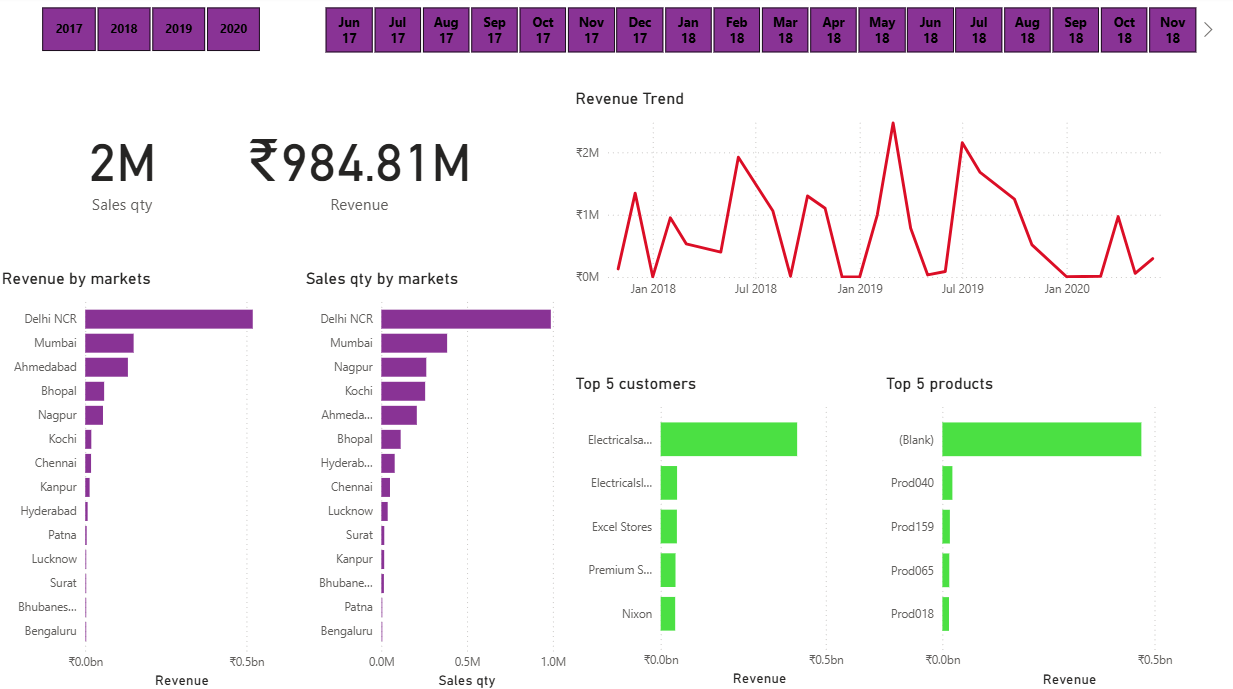

Layout of this report page (visuals, bound fields, positions):
{"tool":"powerbi","page":{"name":"Key Insights","canvas":[1280,720],"ordinal":0},"visuals":[{"type":"slicer","fields":{"Values":["sales date.year"]},"box":[21.1,5.6,274.4,59.1],"z":0},{"type":"card","fields":{"Values":["measure_table.Revenue"]},"box":[244.9,111.2,258.9,132.3],"z":1000},{"type":"clusteredBarChart","title":"Revenue by markets","fields":{"Category":["sales markets.markets_name"],"Y":["measure_table.Revenue"]},"box":[0,282.4,313.8,437.7],"z":2000},{"type":"card","fields":{"Values":["measure_table.Sales qty"]},"box":[42.2,111.2,174.5,132.3],"z":3000},{"type":"barChart","title":"Sales qty by markets","fields":{"Category":["sales markets.markets_name"],"Y":["measure_table.Sales qty"]},"box":[313.8,282.4,279.1,437.7],"z":4000},{"type":"slicer","fields":{"Values":["sales date.cy_date.Variation.Date Hierarchy.Month"]},"box":[313.8,5.6,948.5,60.5],"z":5000},{"type":"clusteredBarChart","title":"Top 5 customers","fields":{"Category":["sales customers.custmer_name"],"Y":["measure_table.Revenue"]},"box":[592.4,391.2,320.9,327.9],"z":6000},{"type":"clusteredBarChart","title":"Top 5 products","fields":{"Y":["measure_table.Revenue"],"Category":["sales products.product_code"]},"box":[913.3,391.2,349,327.9],"z":7000},{"type":"lineChart","title":"Revenue Trend","fields":{"Category":["sales date.cy_date"],"Y":["measure_table.Revenue"]},"box":[592.4,97.1,630.4,225.2],"z":8000}]}

Visuals, with their boxes in screenshot pixels (x1, y1, x2, y2), scaled from the page's 1280x720 canvas onto the 1233x689 screenshot:
slicer - sales date.year: (20,5,285,62)
card - measure_table.Revenue: (236,106,485,233)
"Revenue by markets" clusteredBarChart: (0,270,302,688)
card - measure_table.Sales qty: (41,106,209,233)
"Sales qty by markets" barChart: (302,270,571,688)
slicer - sales date.cy_date.Variation.Date Hierarchy.Month: (302,5,1216,63)
"Top 5 customers" clusteredBarChart: (571,374,880,688)
"Top 5 products" clusteredBarChart: (880,374,1216,688)
"Revenue Trend" lineChart: (571,93,1178,308)
